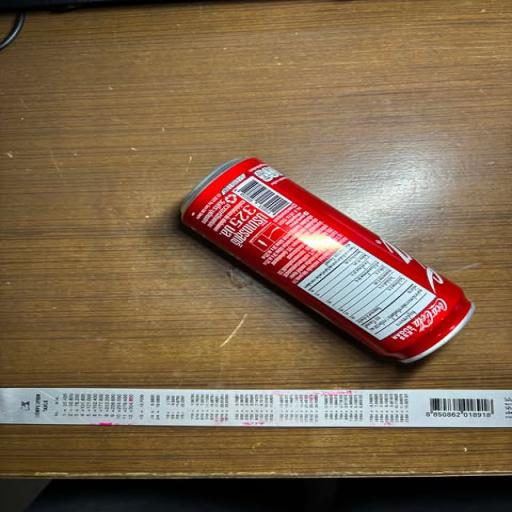canned: (152, 139, 496, 378)
